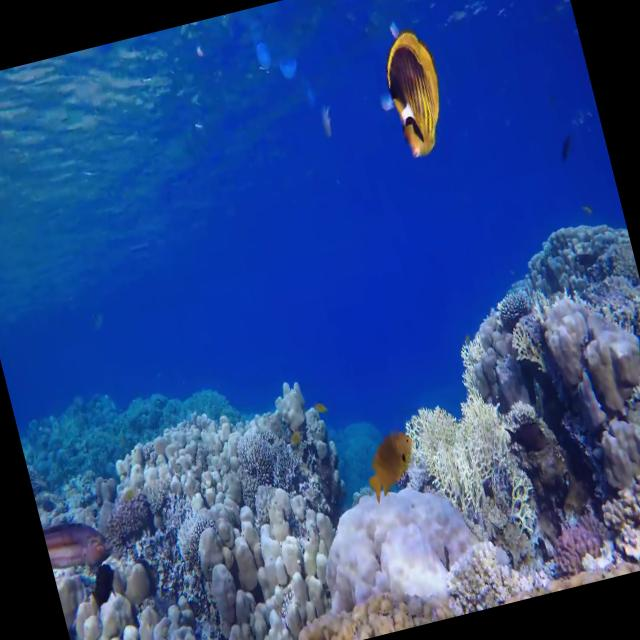fish: (364, 23, 462, 172), (354, 420, 431, 515), (40, 501, 119, 575), (78, 552, 131, 618)
